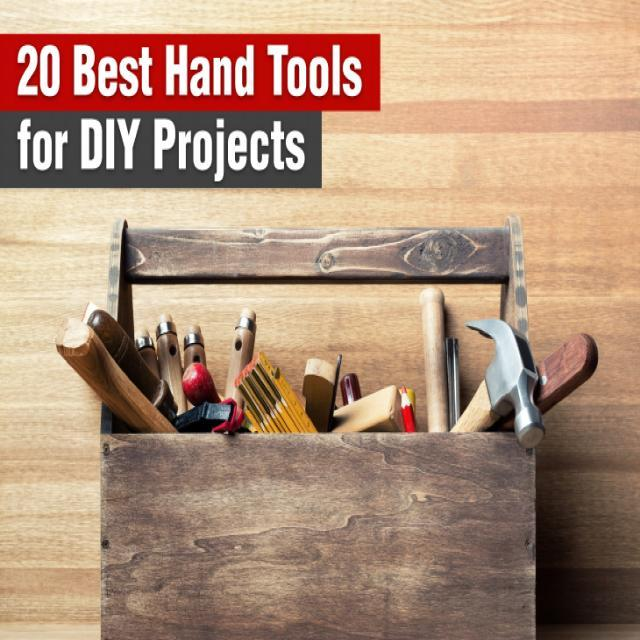hammer: (444, 306, 545, 454)
